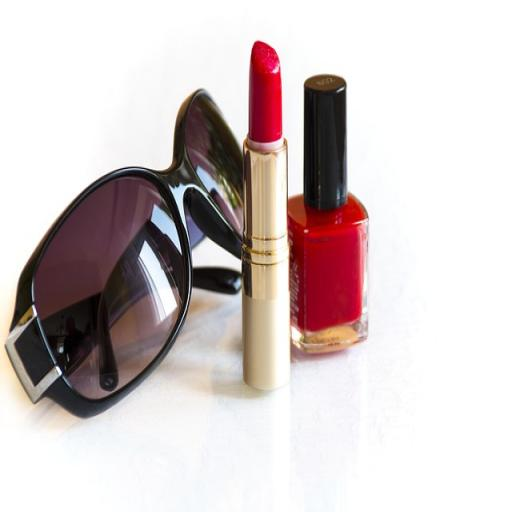lipstick: (243, 42, 290, 389)
